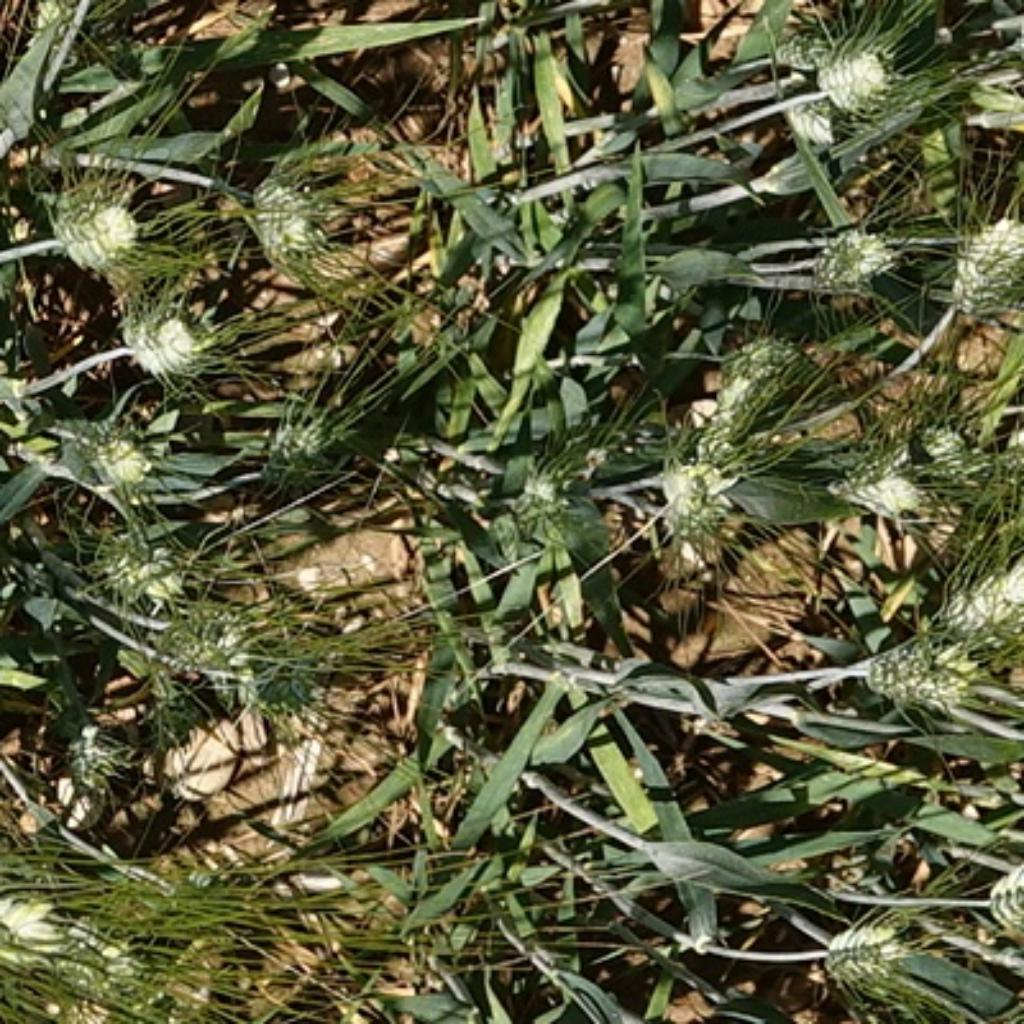0-0: (471, 432, 616, 565), (691, 312, 814, 458), (148, 586, 284, 693), (225, 168, 340, 273), (823, 424, 946, 522), (40, 396, 158, 496), (847, 616, 970, 709), (40, 163, 145, 268), (816, 906, 926, 1000), (0, 878, 103, 978), (934, 199, 1021, 317), (924, 547, 1021, 652), (87, 506, 194, 599), (112, 281, 212, 376), (51, 709, 138, 816), (650, 445, 737, 550), (796, 23, 896, 110), (250, 399, 343, 486), (49, 904, 142, 991), (916, 409, 1013, 488), (17, 0, 128, 69), (801, 212, 898, 289), (778, 87, 839, 140), (990, 852, 1024, 934), (47, 992, 113, 1024)
